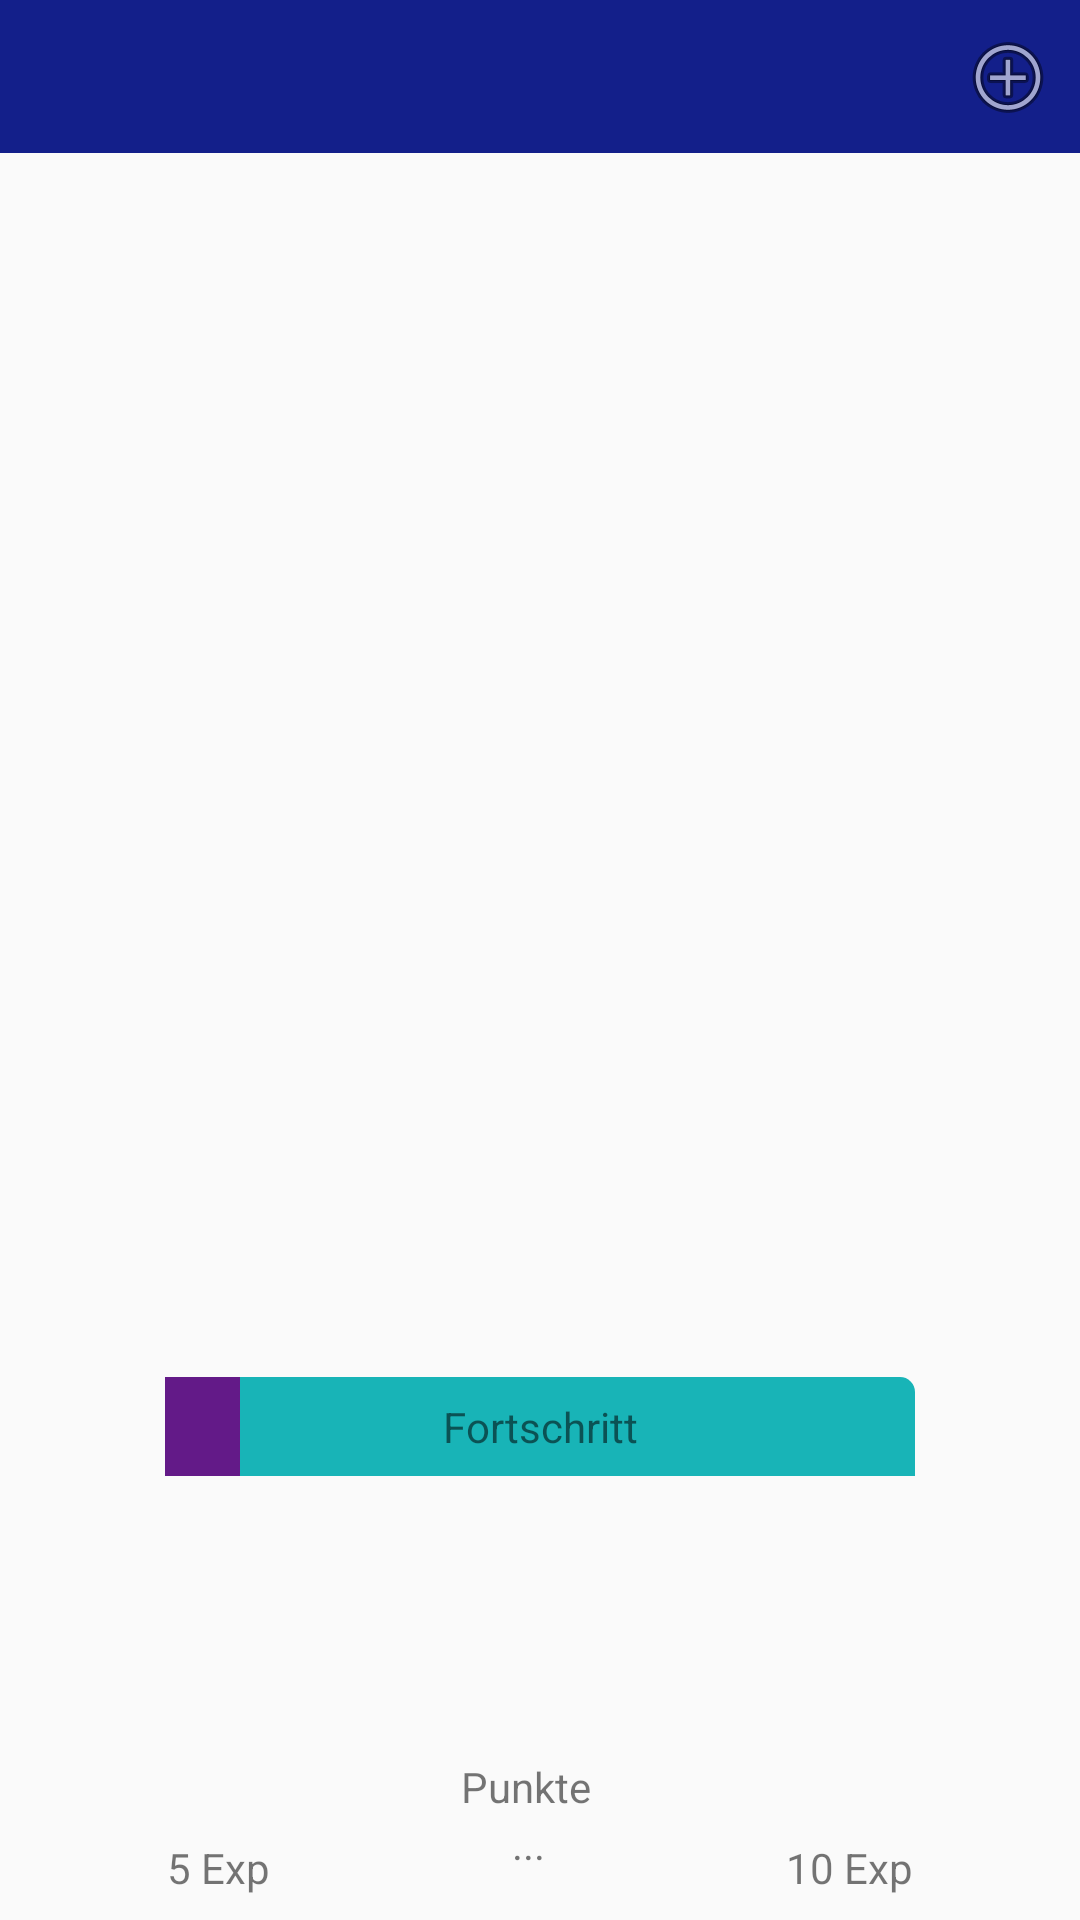

Named icons in this screenshot (1080 × 1920) and their centers, [x,y]:
add: [1008,77]
